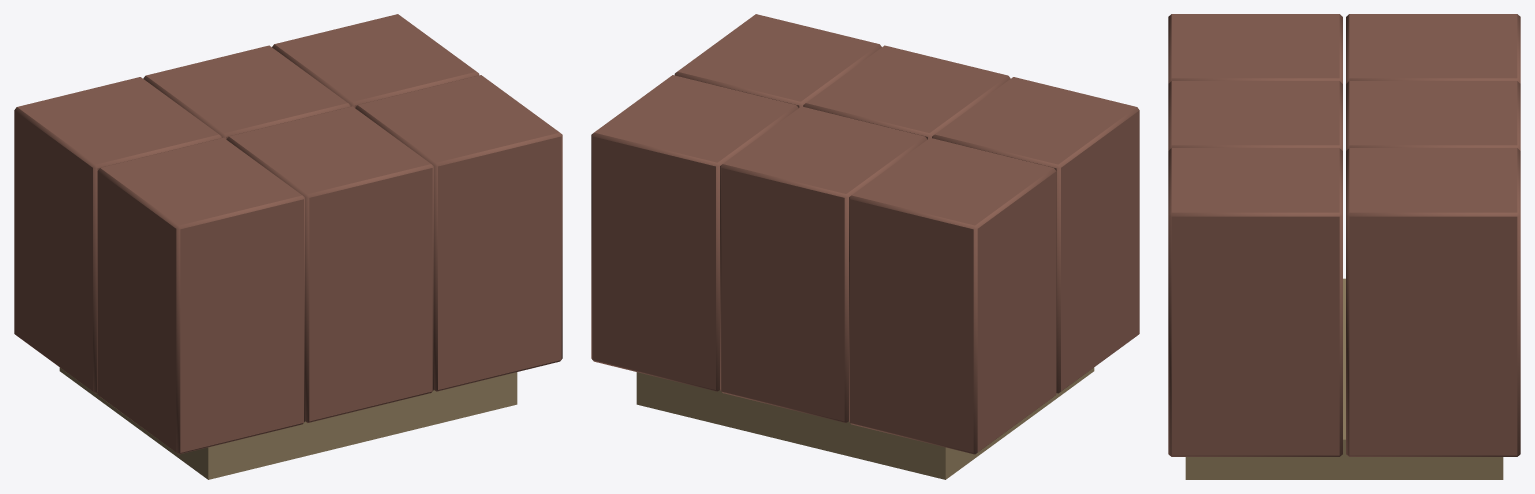
File: brick_pallet.glb
The picture shows the model from 3 angles, left to right: view 1: azimuth 30°, elevation 25°; view 2: azimuth 150°, elevation 25°; view 3: azimuth 270°, elevation 25°; orthographic projection. The views are drawn at different scales.
Visible parts, largest first — view 1: brick_stack, brick_stack.004, brick_stack.002, brick_stack.001, pallet, brick_stack.003, brick_stack.005; view 2: brick_stack.001, brick_stack.005, brick_stack.003, brick_stack, pallet, brick_stack.002, brick_stack.004; view 3: brick_stack.004, brick_stack.005, brick_stack, brick_stack.001, brick_stack.002, brick_stack.003, pallet.
Boxes of the visible parts, <box> form: brick_stack: <box>97,137,304,454</box>; brick_stack.004: <box>355,75,562,391</box>; brick_stack.002: <box>226,106,433,422</box>; brick_stack.001: <box>14,77,221,393</box>; pallet: <box>59,367,517,479</box>; brick_stack.003: <box>143,45,350,139</box>; brick_stack.005: <box>272,14,479,107</box>; brick_stack.001: <box>849,137,1056,454</box>; brick_stack.005: <box>591,75,798,391</box>; brick_stack.003: <box>720,106,927,422</box>; brick_stack: <box>932,77,1139,393</box>; pallet: <box>636,367,1094,479</box>; brick_stack.002: <box>803,45,1010,139</box>; brick_stack.004: <box>674,14,881,107</box>; brick_stack.004: <box>1168,148,1342,456</box>; brick_stack.005: <box>1346,148,1520,456</box>; brick_stack: <box>1168,14,1342,83</box>; brick_stack.001: <box>1346,14,1520,83</box>; brick_stack.002: <box>1168,81,1342,150</box>; brick_stack.003: <box>1346,81,1520,150</box>; pallet: <box>1185,278,1503,479</box>.
Size of what is drawn, in the model's own units: 1.5 by 0.995 by 1.11.
